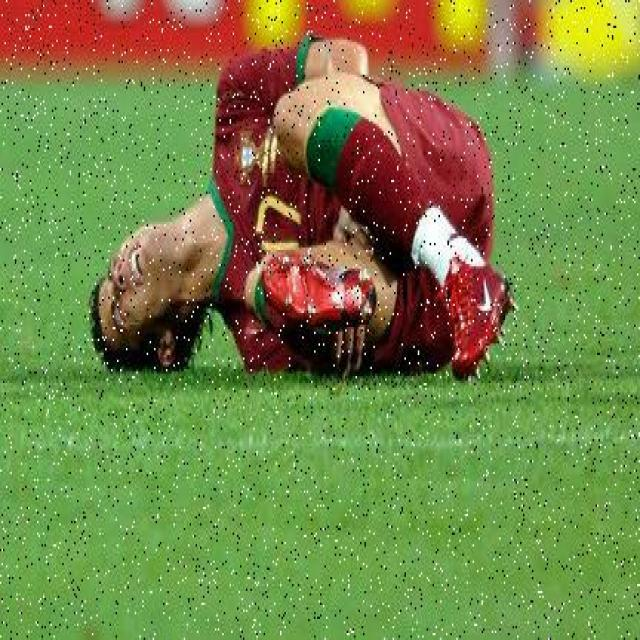fall: (94, 39, 506, 372)
